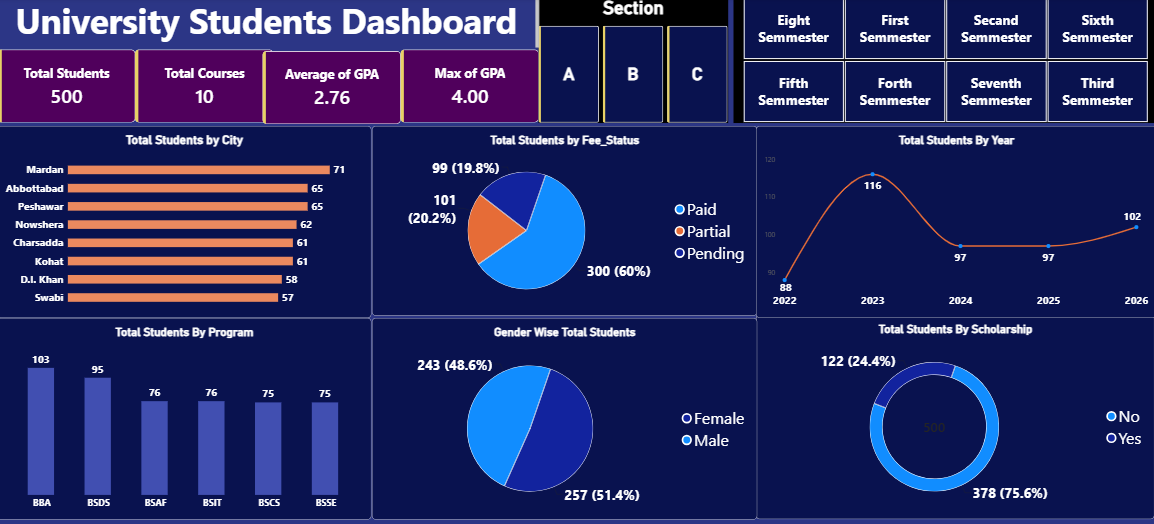

The dashboard page shown, as its layout file describes it:
{"tool":"powerbi","page":{"name":"Page 1","canvas":[2560,1440],"ordinal":0},"visuals":[{"type":"cardVisual","fields":{"Data":["CountNonNull(Students.Student_ID)"]},"box":[0,110,288.4,152.4],"z":0},{"type":"cardVisual","fields":{"Data":["CountNonNull(Courses.Course_ID)"]},"box":[288.4,110.2,288.4,152.4],"z":1000},{"type":"cardVisual","fields":{"Data":["Avg(Students.GPA)"]},"box":[553.3,112.5,288.4,152.4],"z":2000},{"type":"cardVisual","fields":{"Data":["Max(Students.GPA)"]},"box":[841.7,110.2,288.4,152.4],"z":3000},{"type":"clusteredBarChart","fields":{"Category":["Students.City"],"Y":["CountNonNull(Students.Student_ID)"]},"box":[0,267.5,780,400],"z":4000},{"type":"columnChart","title":"Total Students By Program","fields":{"Category":["Students.Program"],"Y":["CountNonNull(Students.Student_ID)"]},"box":[0,667.5,780,420],"z":5000},{"type":"pieChart","fields":{"Category":["Students.Fee_Status"],"Y":["CountNonNull(Students.Student_ID)"]},"box":[780,267.5,802.5,395],"z":6000},{"type":"donutChart","title":"Total Students By Scholarship","fields":{"Category":["Students.Scholarship"],"Series":["Students.Scholarship"],"Y":["CountNonNull(Students.Student_ID)"]},"box":[1582.5,662.5,830,425],"z":7000},{"type":"pieChart","title":"Gender Wise Total Students","fields":{"Category":["Students.Gender"],"Y":["CountNonNull(Students.Student_ID)"]},"box":[780,667.5,802.5,420],"z":8000},{"type":"lineChart","title":"Total Students By Year","fields":{"Category":["Students.Admission_Year"],"Y":["CountNonNull(Students.Student_ID)"]},"box":[1582.5,267.5,835,400],"z":9000},{"type":"slicer","fields":{"Values":["Students.Semester"]},"box":[1535,0,882.5,262.5],"z":10000},{"type":"advancedSlicerVisual","fields":{"Values":["Students.Section"]},"box":[1130,0,395,262.5],"z":11000},{"type":"textbox","box":[2235,20,325,142.5],"z":12000},{"type":"textbox","box":[2235,265,325,157.5],"z":13000},{"type":"textbox","box":[0,0,1130,110],"z":14000}]}

Visuals, with their boxes on the page's 2560x1440 design canvas (x1, y1, x2, y2). These are canvas units, not pixel positions in the 1154x524 screenshot, which may show the page scaled, cropped or inside an application window:
cardVisual - CountNonNull(Students.Student_ID): bbox=(0, 110, 288, 262)
cardVisual - CountNonNull(Courses.Course_ID): bbox=(288, 110, 577, 263)
cardVisual - Avg(Students.GPA): bbox=(553, 112, 842, 265)
cardVisual - Max(Students.GPA): bbox=(842, 110, 1130, 263)
clusteredBarChart - Students.City x CountNonNull(Students.Student_ID): bbox=(0, 268, 780, 668)
"Total Students By Program" columnChart: bbox=(0, 668, 780, 1088)
pieChart - Students.Fee_Status x CountNonNull(Students.Student_ID): bbox=(780, 268, 1582, 662)
"Total Students By Scholarship" donutChart: bbox=(1582, 662, 2412, 1088)
"Gender Wise Total Students" pieChart: bbox=(780, 668, 1582, 1088)
"Total Students By Year" lineChart: bbox=(1582, 268, 2418, 668)
slicer - Students.Semester: bbox=(1535, 0, 2418, 262)
advancedSlicerVisual - Students.Section: bbox=(1130, 0, 1525, 262)
textbox: bbox=(2235, 20, 2560, 162)
textbox: bbox=(2235, 265, 2560, 422)
textbox: bbox=(0, 0, 1130, 110)
